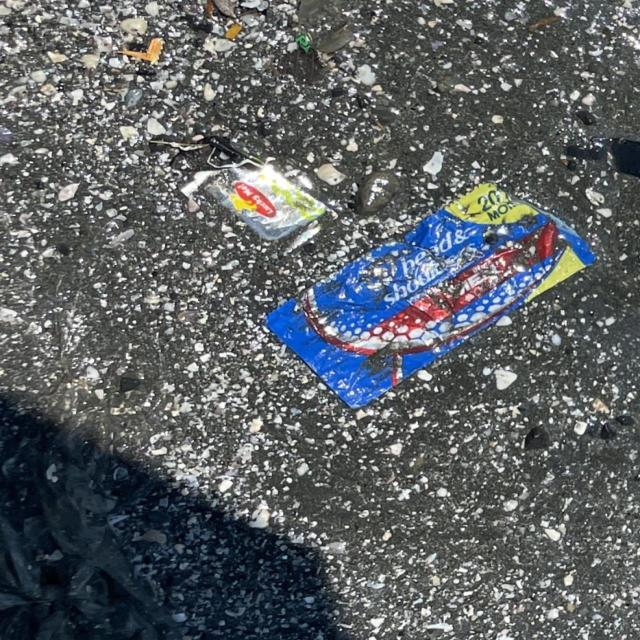plastic_waste: (265, 180, 597, 408), (220, 157, 330, 241)
